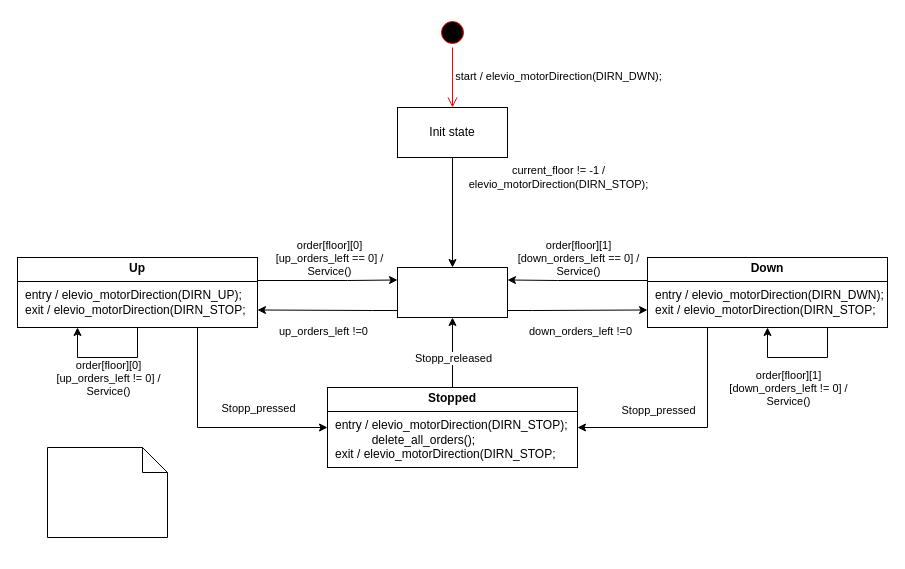
The diagram is 905 pixels wide and 569 high, and some of its shapes have lost their labels. Here are the shapes that lost their labels. From the top down, the centre of each, then its label:
At [452,292]: "Idle".
At [107,492]: "{Service() stops the elevator, opens the door and then closes them }".
